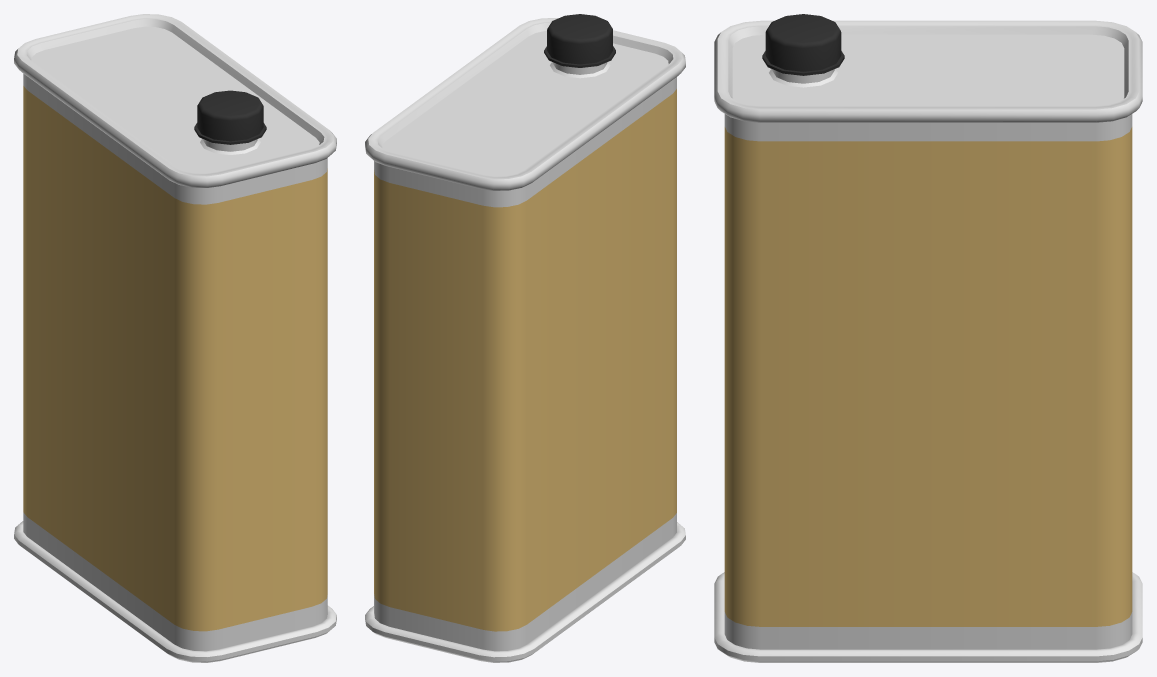
3 views of the same model, side by side, from view 1: azimuth 30°, elevation 25°; view 2: azimuth 150°, elevation 25°; view 3: azimuth 270°, elevation 25° (orthographic). The views are drawn at different scales.
Parts seen in each view (by area): view 1: MotorOil_low; view 2: MotorOil_low; view 3: MotorOil_low.
Boxes of the visible parts, x1=… form: MotorOil_low: x1=14, y1=14, x2=336, y2=662; MotorOil_low: x1=365, y1=14, x2=685, y2=662; MotorOil_low: x1=714, y1=14, x2=1142, y2=662.
Size of the model in its own units: 116 by 347 by 228.
